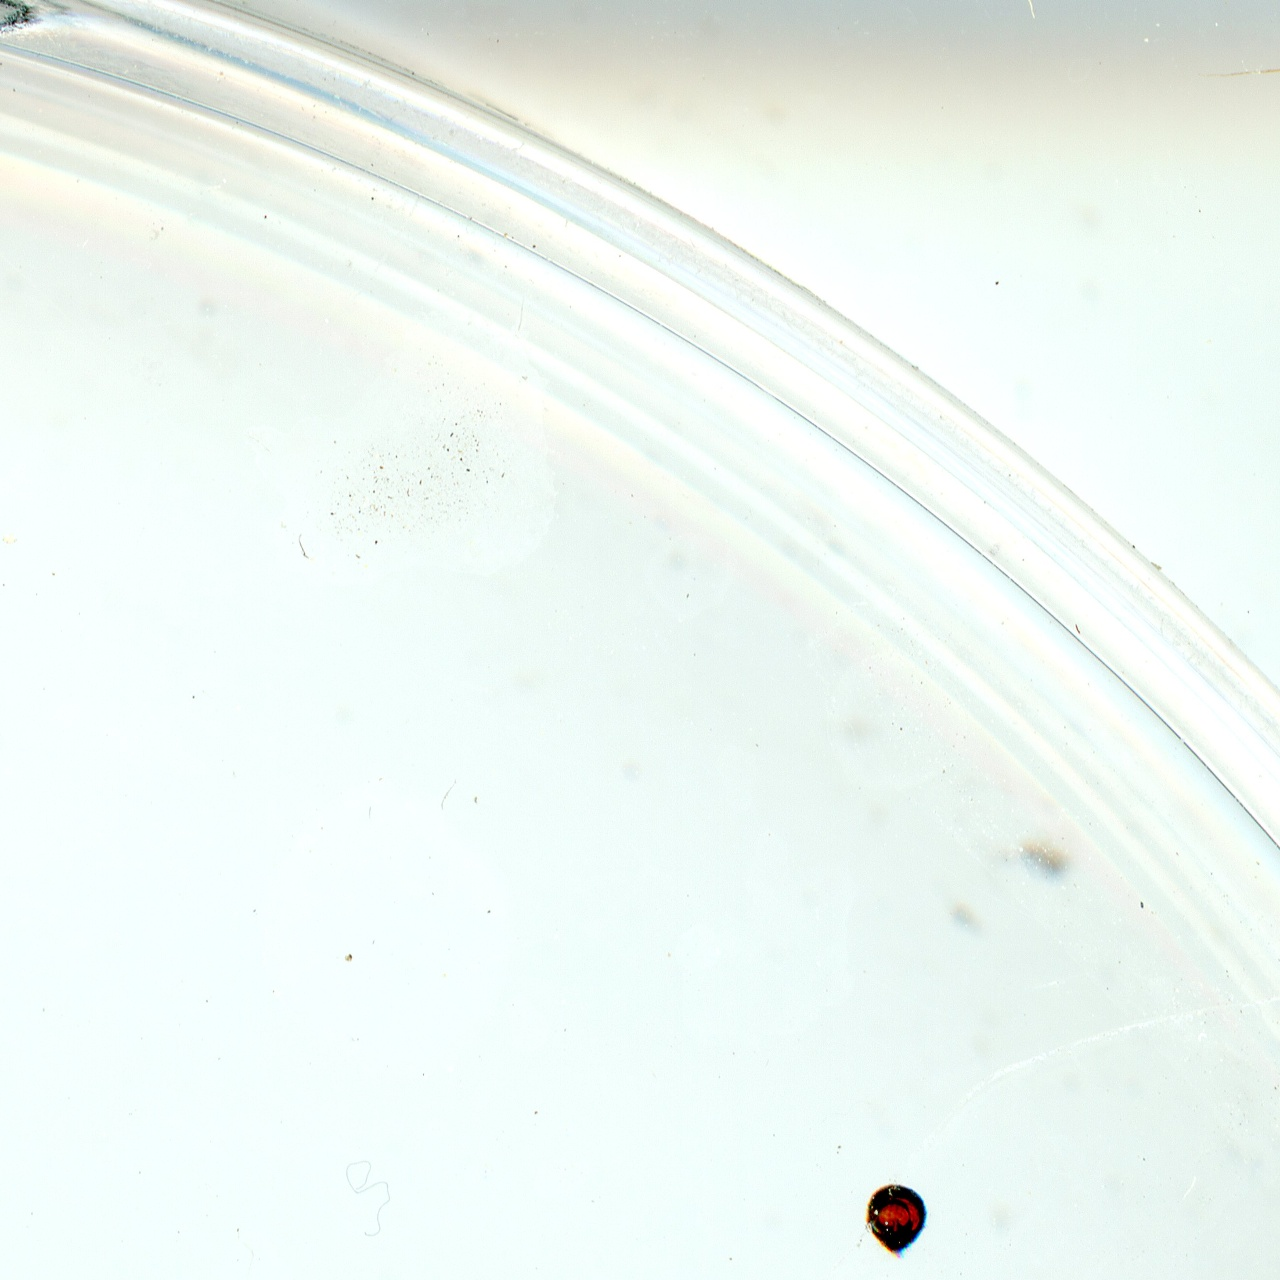arthropod: (862, 1182, 931, 1258)
